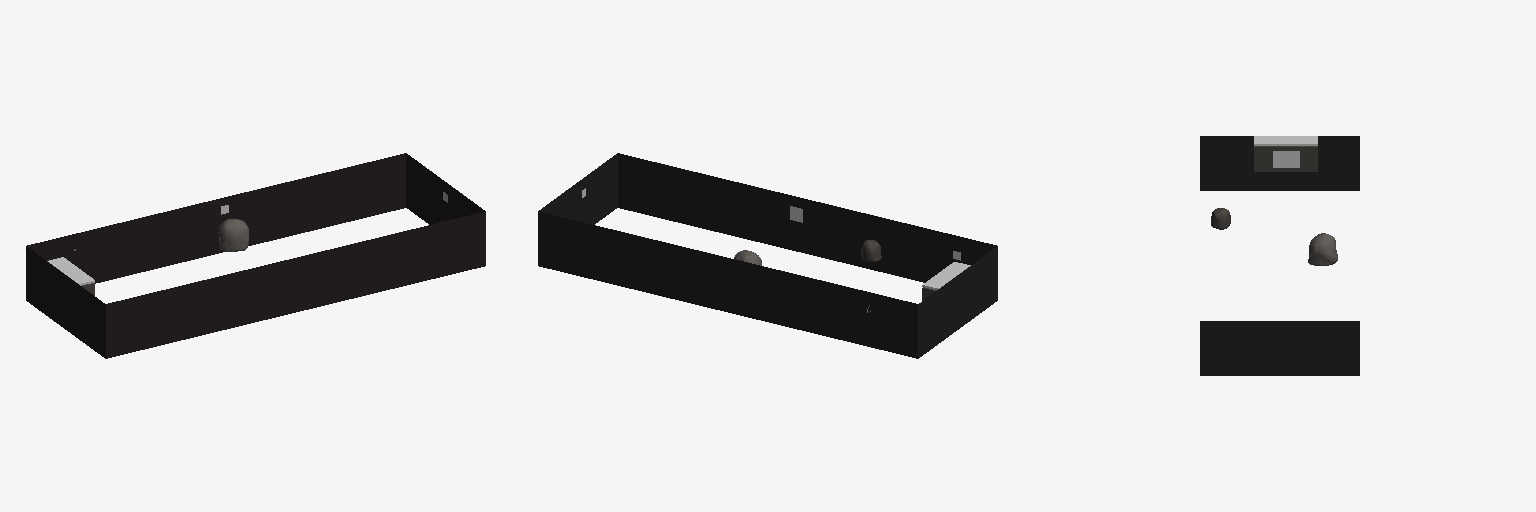
File: model_arena_demo_flat.obj
3 views of the same model, side by side, from view 1: azimuth 30°, elevation 25°; view 2: azimuth 150°, elevation 25°; view 3: azimuth 270°, elevation 25° (orthographic).
Parts seen in each view (by area): view 1: Plane.002, Cube.015, Plane.001; view 2: Plane.002, Plane.001; view 3: Plane.002, Plane.007, Cube.015, Plane.001.
Part boxes in pixels (bbox=[...]): Plane.002: bbox=[26, 153, 485, 358]; Cube.015: bbox=[218, 219, 248, 251]; Plane.001: bbox=[47, 257, 94, 285]; Plane.002: bbox=[538, 153, 997, 358]; Plane.001: bbox=[922, 262, 970, 289]; Plane.002: bbox=[1200, 136, 1359, 375]; Plane.007: bbox=[1254, 146, 1317, 171]; Cube.015: bbox=[1308, 233, 1337, 265]; Plane.001: bbox=[1254, 136, 1317, 145].
Size of the model in its own units: 6.89 by 0.95 by 2.5.